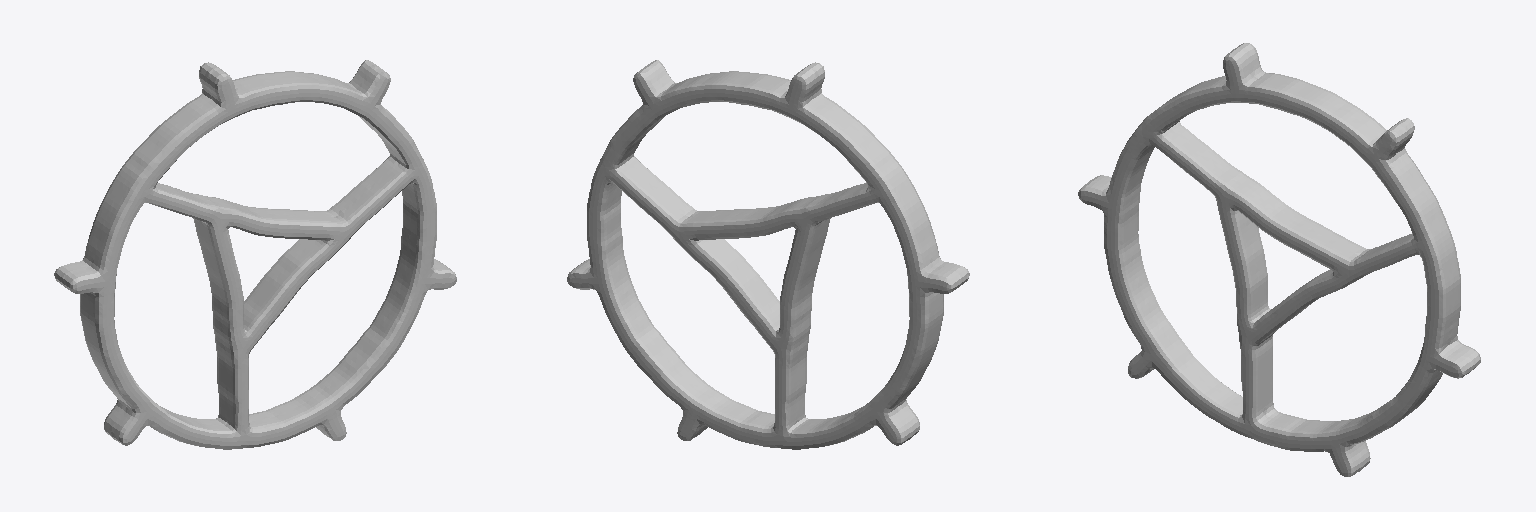
The model's file is Engrane 4.OBJ.
3 views of the same model, side by side, from view 1: azimuth 30°, elevation 25°; view 2: azimuth 150°, elevation 25°; view 3: azimuth 330°, elevation 25° (orthographic).
Visible parts, largest first — view 1: ZBrush_defualt_group; view 2: ZBrush_defualt_group; view 3: ZBrush_defualt_group.
Boxes of the visible parts, <box> form: ZBrush_defualt_group: <box>54,60,456,449</box>; ZBrush_defualt_group: <box>567,60,969,449</box>; ZBrush_defualt_group: <box>1078,43,1480,476</box>.
Size of the model in its own units: 1.7 by 1.66 by 0.1537.